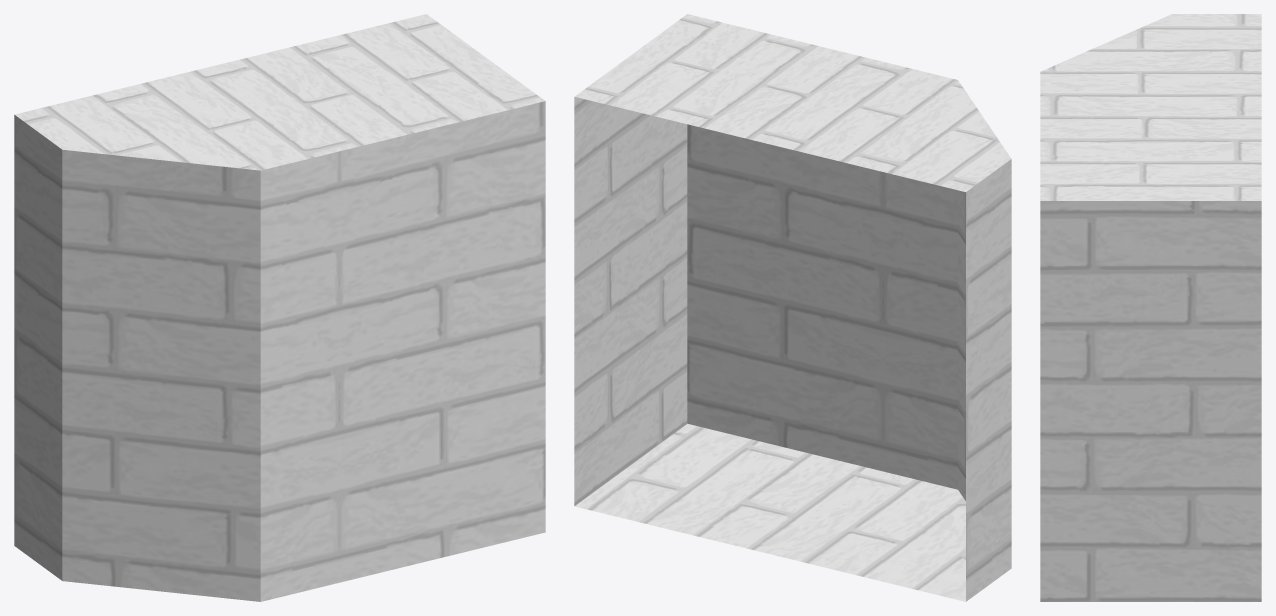
The model's file is castle_type_b.gltf.
The picture shows the model from 3 angles, left to right: view 1: azimuth 30°, elevation 25°; view 2: azimuth 150°, elevation 25°; view 3: azimuth 270°, elevation 25°; orthographic projection. The views are drawn at different scales.
Visible parts, largest first — view 1: Type_B; view 2: Type_B; view 3: Type_B.
Boxes of the visible parts, x1=… form: Type_B: x1=14, y1=14, x2=545, y2=601; Type_B: x1=574, y1=14, x2=1011, y2=601; Type_B: x1=1040, y1=14, x2=1261, y2=601.
Bounding box in the file's own units: 1 × 1 × 0.5.
Materials: 1 (1 with a texture image).
